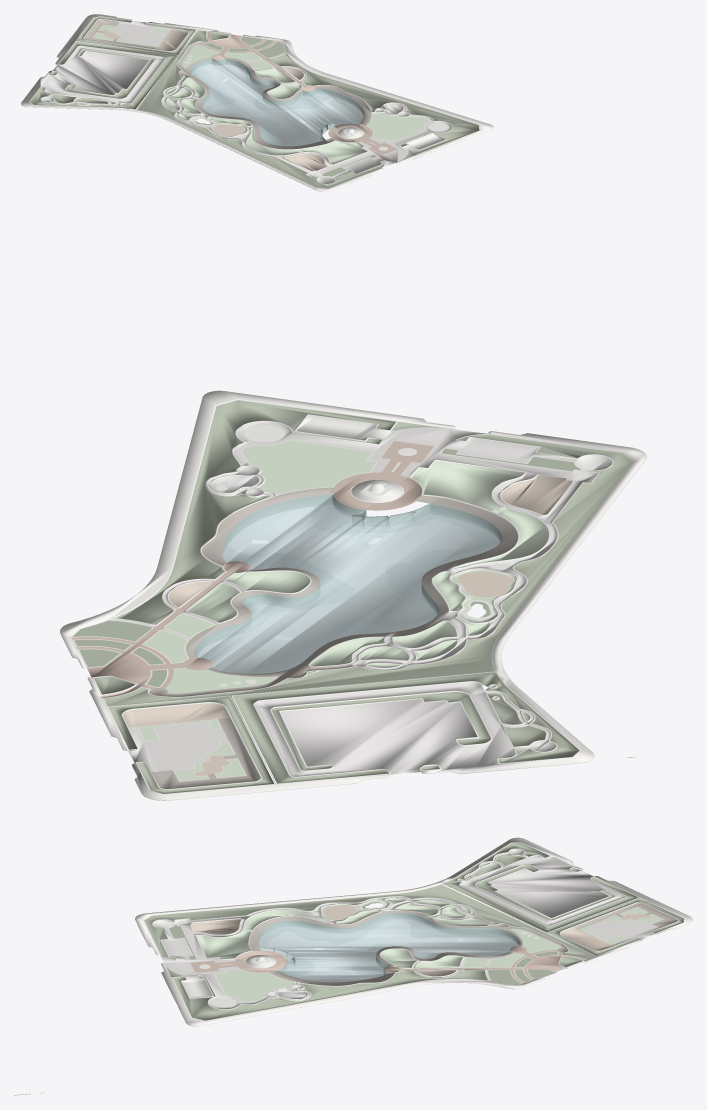
The picture shows the model from 3 angles, top to bottom: view 1: azimuth 30°, elevation 25°; view 2: azimuth 150°, elevation 25°; view 3: azimuth 270°, elevation 25°; orthographic projection. The views are drawn at different scales.
Visible parts, largest first — view 1: Node; view 2: Node; view 3: Node.
Boxes of the visible parts, box(x1,y1,x2,y2) form: Node: box(21, 14, 493, 191); Node: box(60, 390, 646, 800); Node: box(14, 837, 692, 1095).
Size of the model in its own units: 371265 by 6615 by 400585.
